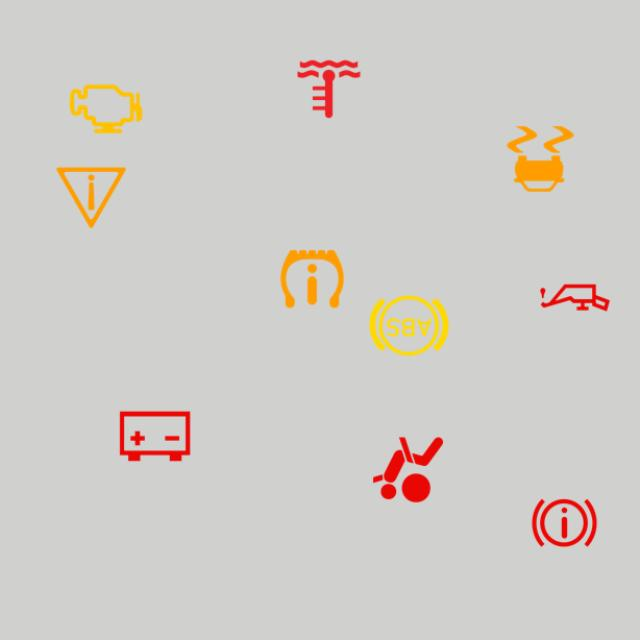Anti Lock Braking System: (366, 282, 452, 368)
Braking System Issue: (522, 480, 608, 566)
Charging System Issue: (112, 393, 198, 479)
Check Engine: (63, 66, 149, 152)
Electronic Stability Problem -ESP-: (498, 116, 584, 202)
Engine Overheating Warning Light: (286, 46, 372, 132)
Low Engine Oil Warning Light: (532, 254, 618, 340)
Low Tire Pressure Warning Light: (269, 236, 355, 322)
Master warning light: (48, 154, 134, 240)
SRS-Airbag: (365, 427, 451, 512)
